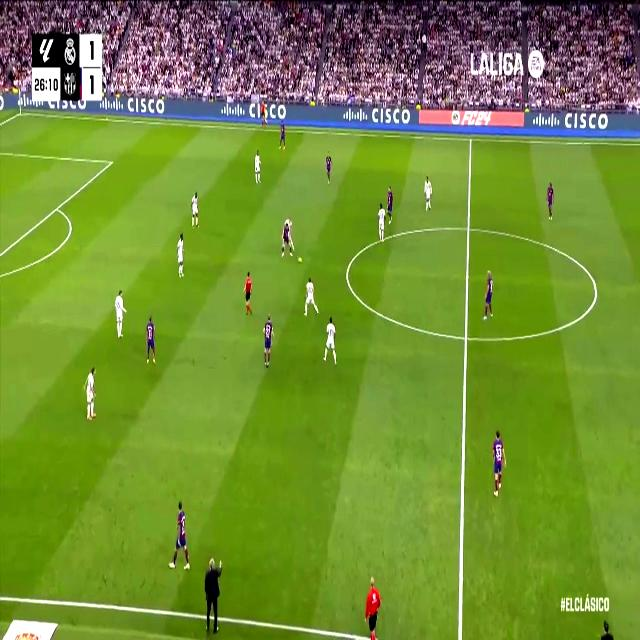bigarea_top_inner: (108, 155, 114, 169)
corner: (17, 108, 24, 118)
halfcircle_bottom: (461, 324, 472, 350)
halfcircle_top: (464, 217, 474, 240)
midline_top_intersection: (467, 131, 475, 147)
top_arc_area_intersection: (53, 200, 61, 215)
